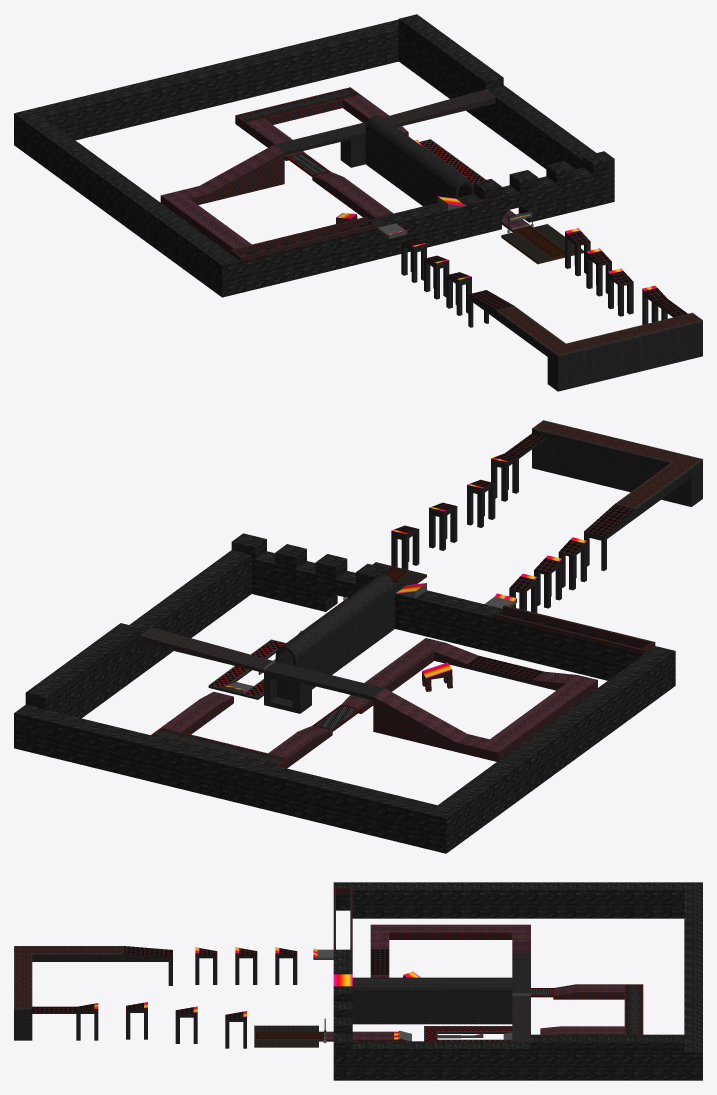
The picture shows the model from 3 angles, top to bottom: view 1: azimuth 30°, elevation 25°; view 2: azimuth 150°, elevation 25°; view 3: azimuth 270°, elevation 25°; orthographic projection. The views are drawn at different scales.
Parts seen in each view (by area): view 1: Untitled_SKP__castle_wall.001, Untitled_SKP__wall.001, Untitled_SKP__yukawall.001, Untitled_SKP__strt_yuka.001, Untitled_SKP__gre.001, Untitled_SKP__low_floor.001, Untitled_SKP__low_kabe.001, Untitled_SKP__carpet.001, Untitled_SKP__futi.001, Untitled_SKP__offroad.001, Untitled_SKP__inside_tile.001, Untitled_SKP__Material1.001; view 2: Untitled_SKP__castle_wall.001, Untitled_SKP__wall.001, Untitled_SKP__yukawall.001, Untitled_SKP__strt_yuka.001, Untitled_SKP__low_floor.001, Untitled_SKP__gre.001, Untitled_SKP__low_kabe.001, Untitled_SKP__futi.001, Untitled_SKP__carpet.001, Untitled_SKP__Boost.001, Untitled_SKP__inside_tile.001; view 3: Untitled_SKP__castle_wall.001, Untitled_SKP__wall.001, Untitled_SKP__strt_yuka.001, Untitled_SKP__yukawall.001, Untitled_SKP__low_floor.001, Untitled_SKP__gre.001, Untitled_SKP__futi.001, Untitled_SKP__carpet.001, Untitled_SKP__offroad.001, Untitled_SKP__low_kabe.001, Untitled_SKP__inside_tile.001, Untitled_SKP__Boost.001 (+2 smaller).
Boxes of the visible parts, x1,y1,x2,y2 form: Untitled_SKP__castle_wall.001: (14,14,614,297); Untitled_SKP__wall.001: (274,115,702,391); Untitled_SKP__yukawall.001: (160,99,512,261); Untitled_SKP__strt_yuka.001: (161,95,528,248); Untitled_SKP__gre.001: (498,306,700,354); Untitled_SKP__low_floor.001: (402,230,687,316); Untitled_SKP__low_kabe.001: (383,89,495,127); Untitled_SKP__carpet.001: (236,87,360,122); Untitled_SKP__futi.001: (419,139,702,356); Untitled_SKP__offroad.001: (501,224,583,261); Untitled_SKP__inside_tile.001: (420,140,484,183); Untitled_SKP__Material1.001: (514,225,564,257); Untitled_SKP__castle_wall.001: (14,533,675,853); Untitled_SKP__wall.001: (208,430,702,713); Untitled_SKP__yukawall.001: (182,605,655,768); Untitled_SKP__strt_yuka.001: (162,598,597,757); Untitled_SKP__low_floor.001: (394,433,634,679); Untitled_SKP__gre.001: (534,421,700,507); Untitled_SKP__low_kabe.001: (141,627,532,684); Untitled_SKP__futi.001: (208,420,702,698); Untitled_SKP__carpet.001: (151,727,287,765); Untitled_SKP__Boost.001: (224,457,586,690); Untitled_SKP__inside_tile.001: (211,640,284,696); Untitled_SKP__castle_wall.001: (333,882,702,1080); Untitled_SKP__wall.001: (14,953,530,1048); Untitled_SKP__strt_yuka.001: (326,924,624,1039); Untitled_SKP__yukawall.001: (324,887,643,1041); Untitled_SKP__low_floor.001: (32,946,389,1020); Untitled_SKP__gre.001: (15,946,122,1007); Untitled_SKP__futi.001: (14,946,512,1041); Untitled_SKP__carpet.001: (624,984,643,1033); Untitled_SKP__offroad.001: (254,1025,318,1045); Untitled_SKP__low_kabe.001: (512,996,530,1041); Untitled_SKP__inside_tile.001: (425,1026,512,1041); Untitled_SKP__Boost.001: (94,947,482,1039).
Size of what is drawn, in the model's own units: 85744 by 11716 by 147025.
24 materials, 24 textured.
